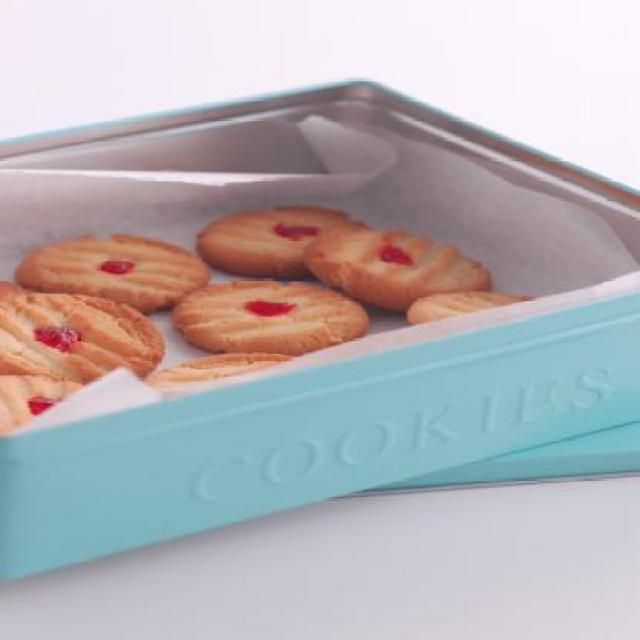Cookie: (0, 199, 538, 433)
